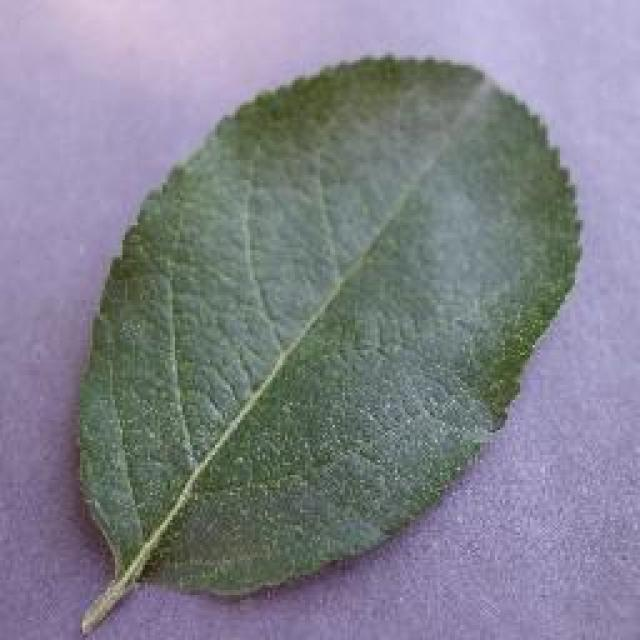apple healthy: (73, 50, 585, 635)
